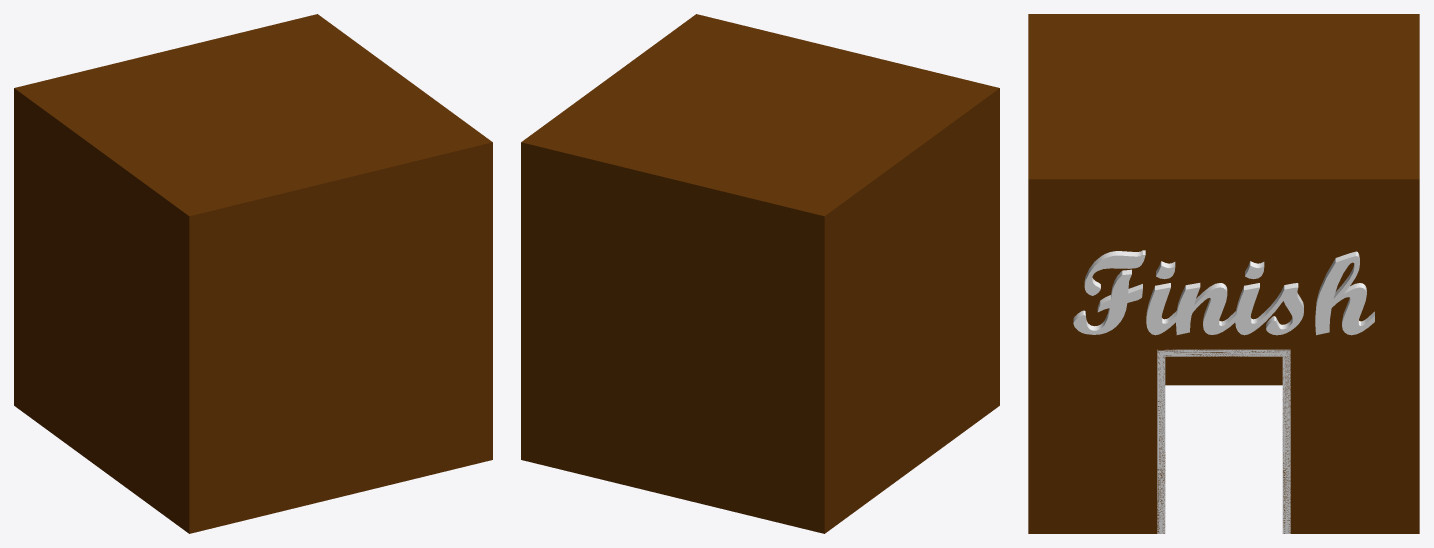
File: Finish.dae
The picture shows the model from 3 angles, left to right: view 1: azimuth 30°, elevation 25°; view 2: azimuth 150°, elevation 25°; view 3: azimuth 270°, elevation 25°; orthographic projection. The views are drawn at different scales.
Parts seen in each view (by area): view 1: group_1; view 2: group_1; view 3: group_1 (×2), Finish (×4).
Boxes of the visible parts, x1,y1,x2,y2 form: group_1: (14,14,492,533); group_1: (521,14,999,533); group_1 (×2): (1028,14,1419,533); Finish (×4): (1073,250,1374,335).
Size of the model in its own units: 4.05 by 3.94 by 3.94.
